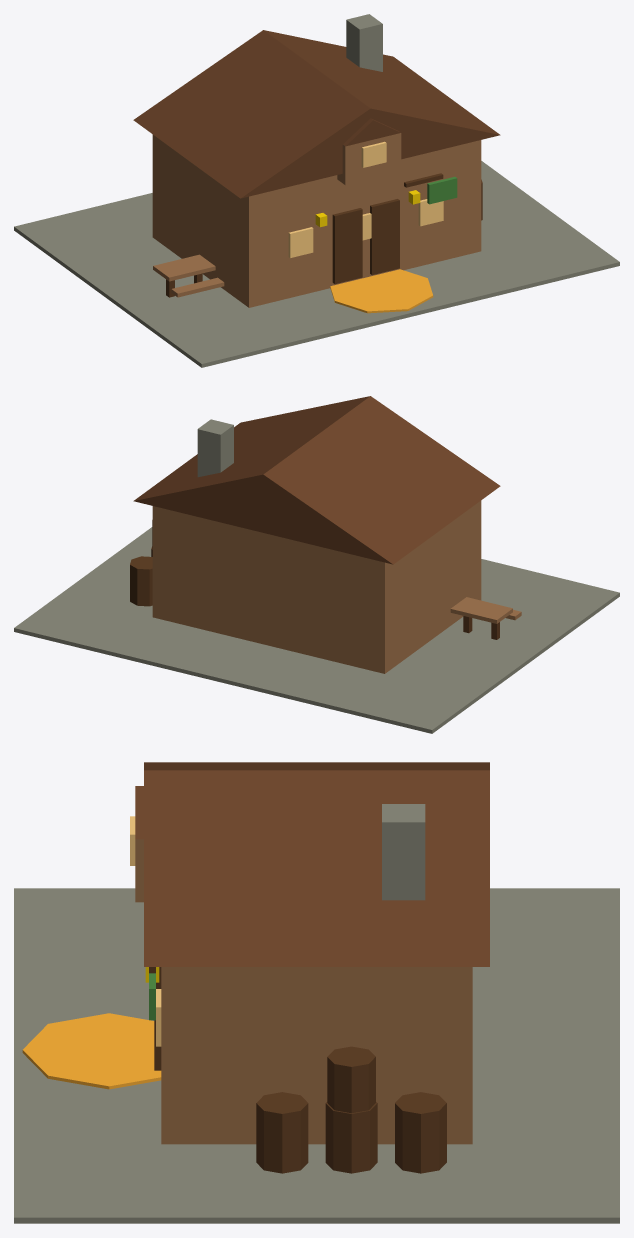
Rendered from inn_tavern.glb.
The picture shows the model from 3 angles, top to bottom: view 1: azimuth 30°, elevation 25°; view 2: azimuth 150°, elevation 25°; view 3: azimuth 270°, elevation 25°; orthographic projection. The views are drawn at different scales.
Visible parts, largest first — view 1: Ground, Roof, Body, LightPool, Door_L, Door_R, Dormer, Chimney, Table, DormerRoof, Window_-7, SignBoard (+3 smaller); view 2: Ground, Body, Roof, Chimney, Barrel2, Table; view 3: Ground, Roof, Body, LightPool, Chimney, Barrel3, Barrel2, Barrel1, Barrel4.
Boxes of the visible parts, x1,y1,x2,y2 form: Ground: [14, 161, 619, 367]; Roof: [133, 30, 500, 198]; Body: [152, 134, 481, 307]; LightPool: [330, 269, 433, 313]; Door_L: [332, 208, 362, 284]; Door_R: [370, 199, 399, 274]; Dormer: [337, 133, 401, 185]; Chimney: [346, 14, 382, 71]; Table: [153, 254, 215, 281]; DormerRoof: [343, 118, 400, 146]; Window_-7: [288, 227, 313, 258]; SignBoard: [427, 176, 457, 204]; Ground: [14, 527, 619, 733]; Body: [152, 500, 481, 673]; Roof: [133, 396, 500, 564]; Chimney: [197, 419, 233, 477]; Barrel2: [130, 556, 152, 606]; Table: [450, 597, 512, 623]; Ground: [14, 888, 619, 1223]; Roof: [144, 762, 489, 966]; Body: [161, 967, 472, 1144]; LightPool: [22, 1013, 161, 1089]; Chimney: [382, 804, 425, 900]; Barrel3: [256, 1092, 308, 1173]; Barrel2: [395, 1092, 446, 1173]; Barrel1: [325, 1102, 377, 1173]; Barrel4: [327, 1046, 375, 1113].
Bounding box in the file's own units: 4.5 × 1.94 × 3.5.
